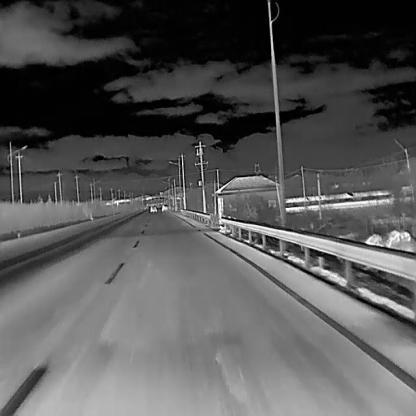car: (149, 203, 158, 213), (161, 202, 169, 212)
